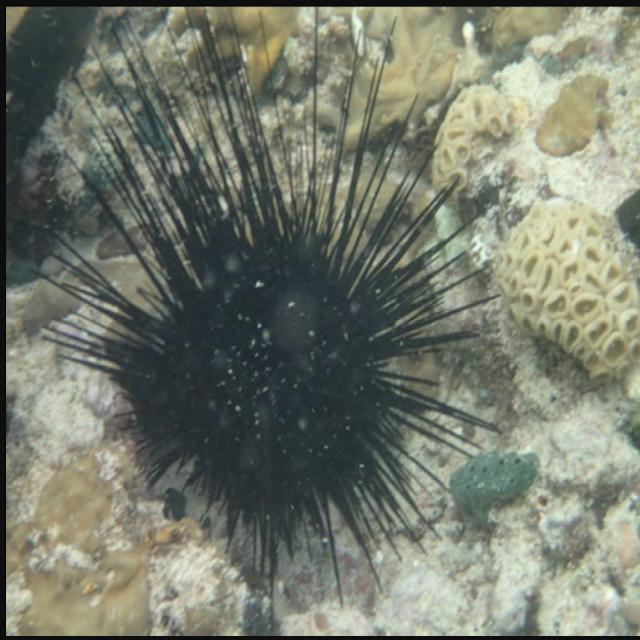Urchin: (44, 35, 496, 572)
